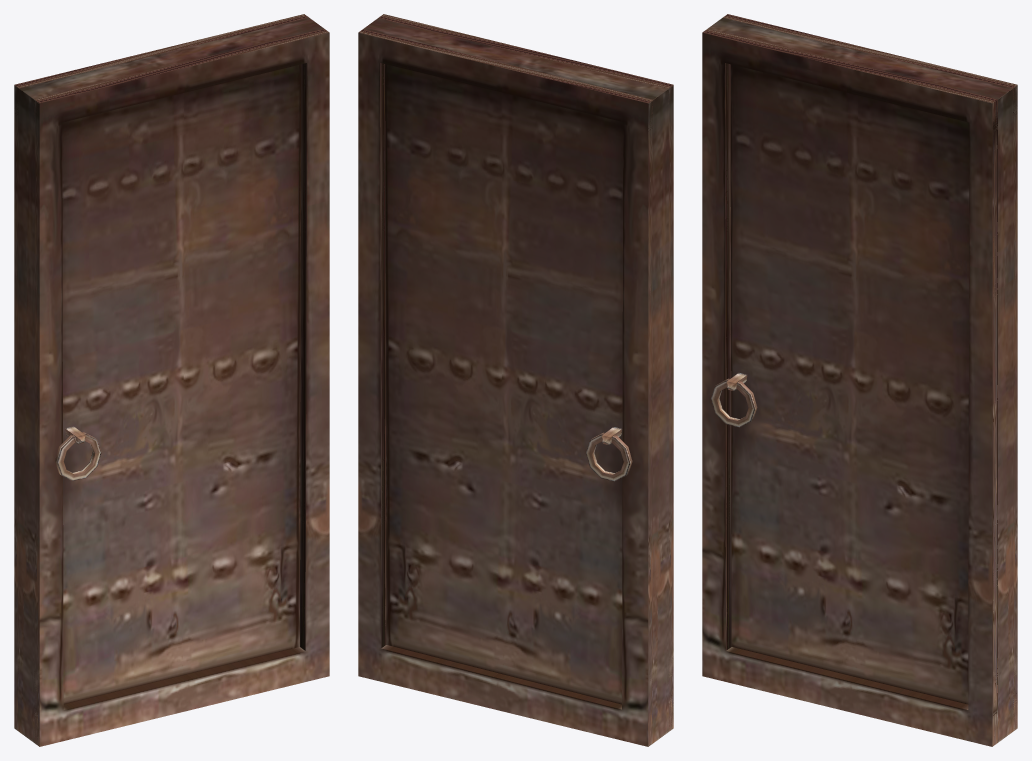
The model's file is Door.fbx.
3 renders of one model, left to right at view 1: azimuth 30°, elevation 25°; view 2: azimuth 150°, elevation 25°; view 3: azimuth 330°, elevation 25°, orthographic.
Parts seen in each view (by area): view 1: polySurface51, polySurface52; view 2: polySurface51, polySurface52; view 3: polySurface51, polySurface52.
Boxes of the visible parts, x1,y1,x2,y2 form: polySurface51: (55,64,301,704); polySurface52: (14,14,329,746); polySurface51: (385,64,632,704); polySurface52: (358,14,673,746); polySurface51: (710,64,969,704); polySurface52: (702,14,1017,746).
Bounding box in the file's own units: 111 × 235 × 28.57.
